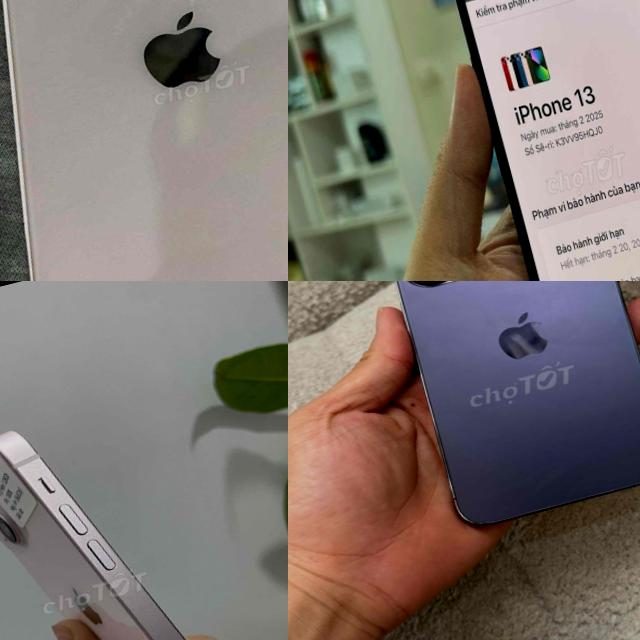gen_12_13: (0, 0, 288, 281), (0, 384, 269, 640), (441, 0, 640, 281)
gen_14: (365, 281, 640, 541)
scratch: (25, 0, 288, 141)
